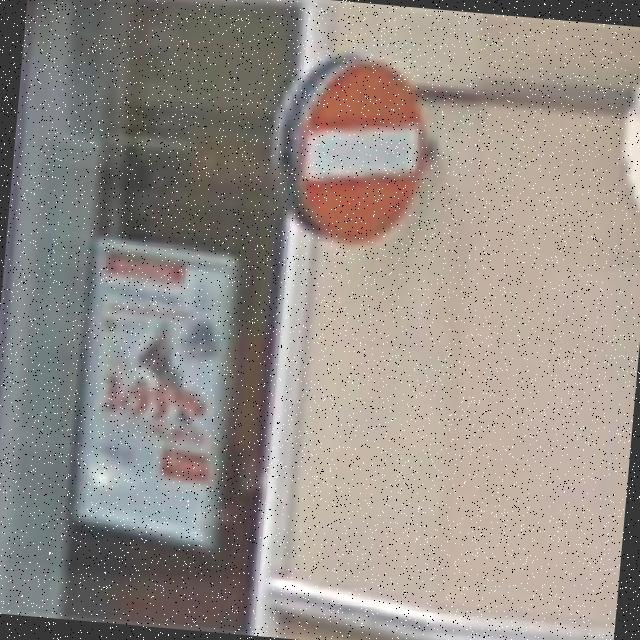Zakaz wjazdu: (287, 54, 431, 255)
